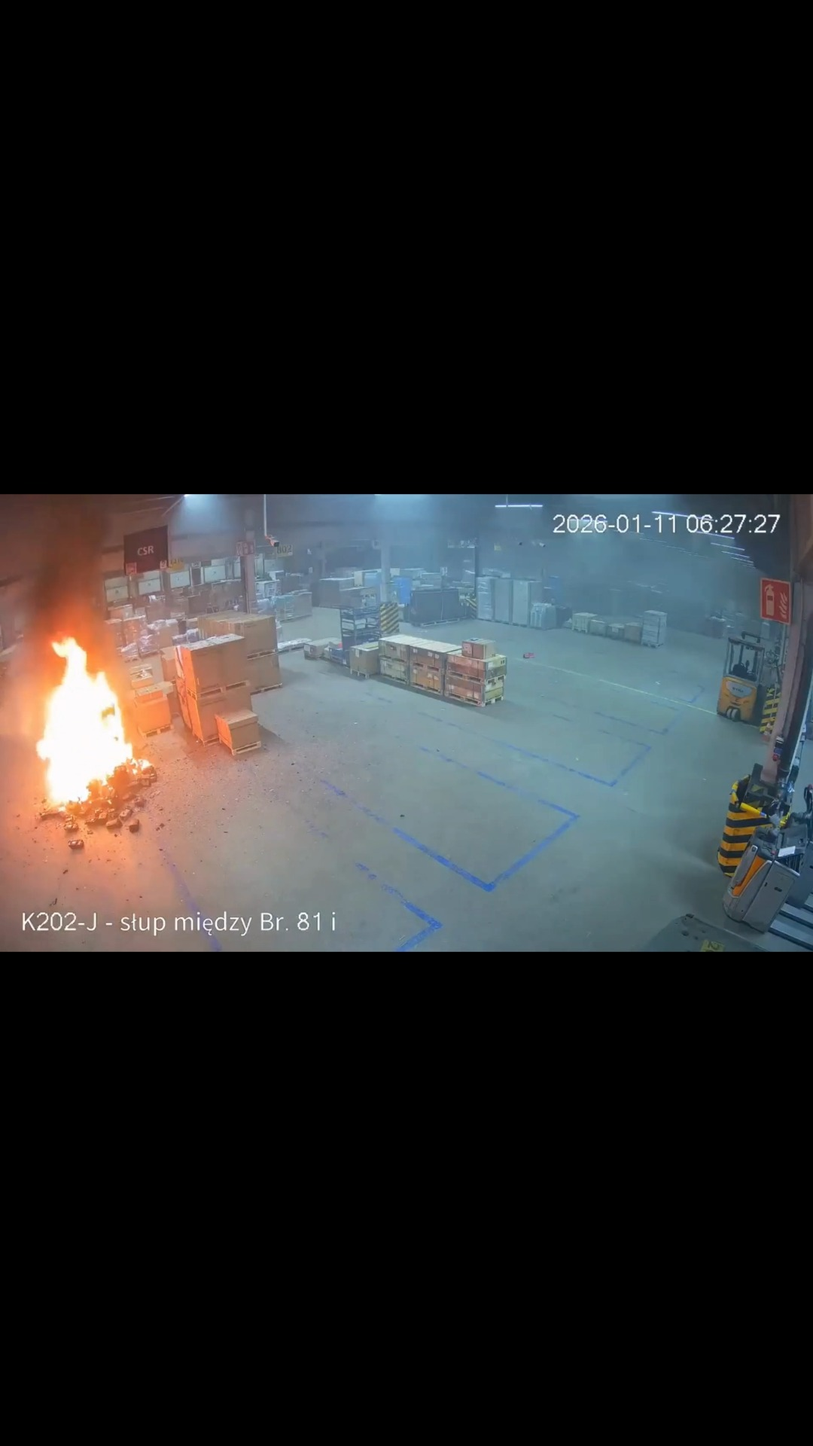fire: (35, 634, 149, 818)
smoke: (0, 495, 133, 646)
